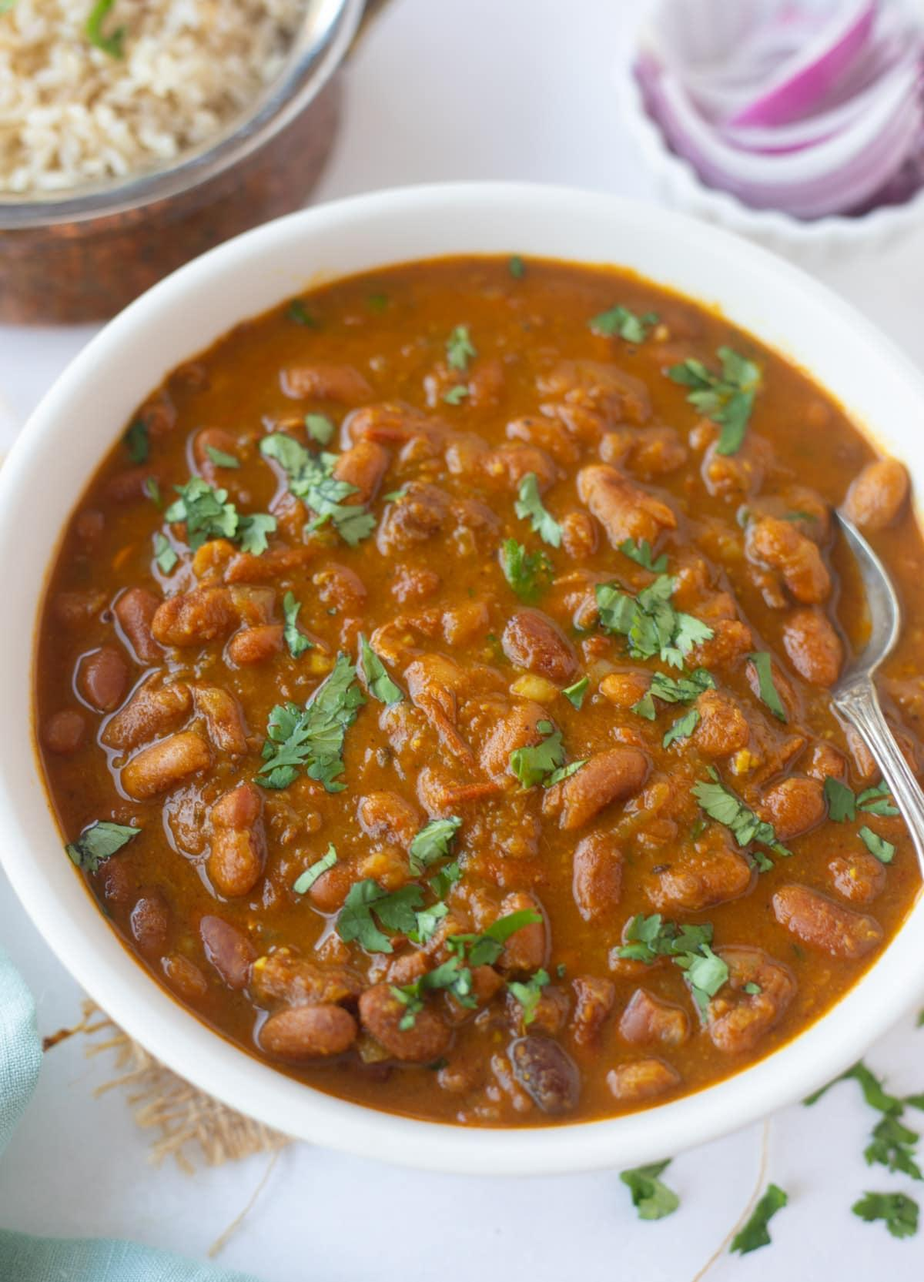rajma: (77, 262, 924, 1116)
